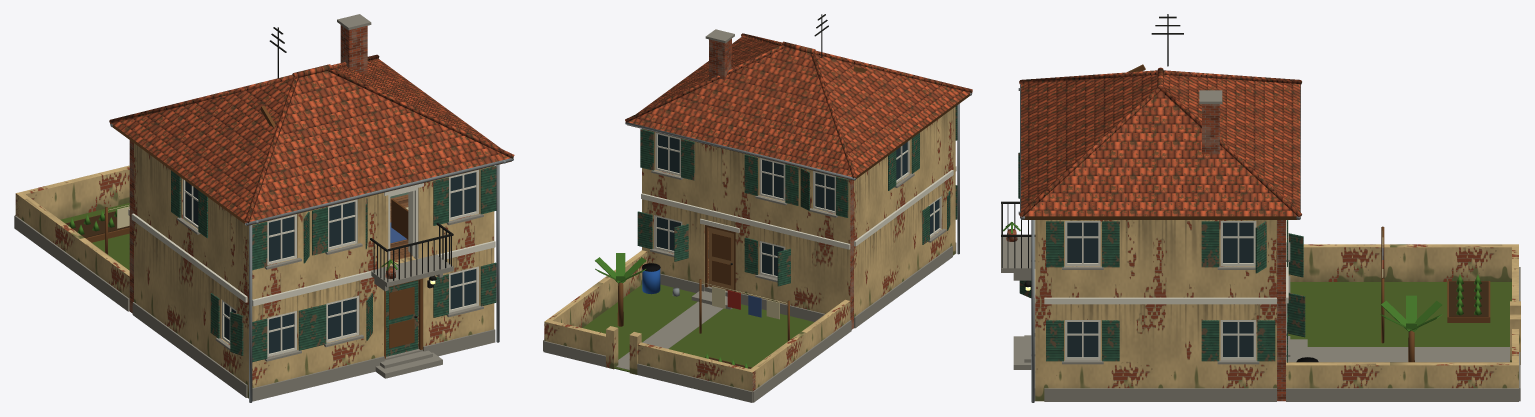
The model's file is woonhuis.glb.
3 renders of one model, left to right at view 1: azimuth 30°, elevation 25°; view 2: azimuth 150°, elevation 25°; view 3: azimuth 270°, elevation 25°, orthographic. The views are drawn at different scales.
Parts seen in each view (by area): view 1: Dak_heel, Dak_kapot, M0V0_heel, M0V1_heel, M0V3_heel, M1V0_heel, M1V1_heel, M1V3_heel, M0W0_heel, M0W1_heel, M1V2_heel, M1W0_heel (+29 smaller); view 2: Dak_heel, Dak_kapot, TuinSpul, M0A3_heel, M0A1_heel, M1A0_heel, M1A3_heel, M1A1_heel, M1A2_heel, M0A0_heel, M0W0_heel, M0A2_heel (+29 smaller); view 3: Dak_heel, Dak_kapot, TuinSpul, M0O0_heel, M0O2_heel, M0O1_heel, M1O0_heel, M1O2_heel, M1O1_heel, M0O1_kapot, T_TO1_heel, T_TO2_heel (+18 smaller).
Part boxes in pixels (x1,y1,x2,y2): Dak_heel: (109,14,514,402); Dak_kapot: (112,59,509,221); M0V0_heel: (247,285,314,401); M0V1_heel: (309,271,373,386); M0V3_heel: (433,240,496,356); M1V0_heel: (247,210,312,299); M1V1_heel: (312,195,373,284); M1V3_heel: (433,166,496,254); M0W0_heel: (207,269,247,397); M0W1_heel: (169,241,209,369); M1V2_heel: (373,180,433,269); M1W0_heel: (209,199,247,295); Dak_heel: (625,14,972,254); Dak_kapot: (629,37,969,176); TuinSpul: (583,253,813,374); M0A3_heel: (637,193,693,292); M0A1_heel: (744,218,798,317); M1A0_heel: (798,167,853,243); M1A3_heel: (640,129,694,205); M1A1_heel: (744,154,798,230); M1A2_heel: (694,141,746,218); M0A0_heel: (797,231,853,329); M0W0_heel: (919,169,953,280); M0A2_heel: (693,205,746,304); Dak_heel: (1018,14,1301,402); Dak_kapot: (1021,64,1300,216); TuinSpul: (1288,226,1520,364); M0O0_heel: (1044,297,1121,401); M0O2_heel: (1199,297,1276,401); M0O1_heel: (1122,297,1199,401); M1O0_heel: (1044,220,1121,297); M1O2_heel: (1199,220,1276,297); M1O1_heel: (1122,220,1199,297); M0O1_kapot: (1122,297,1198,388); T_TO1_heel: (1363,362,1441,401); T_TO2_heel: (1441,362,1518,401).
Bounding box in the file's own units: 8.92 × 9.82 × 14.5.
26 materials, 7 textured.
